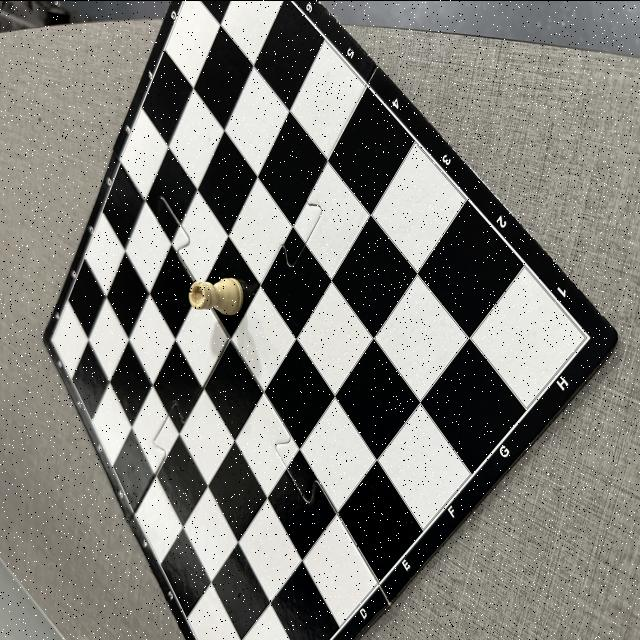White-Rook: (188, 276, 244, 315)
